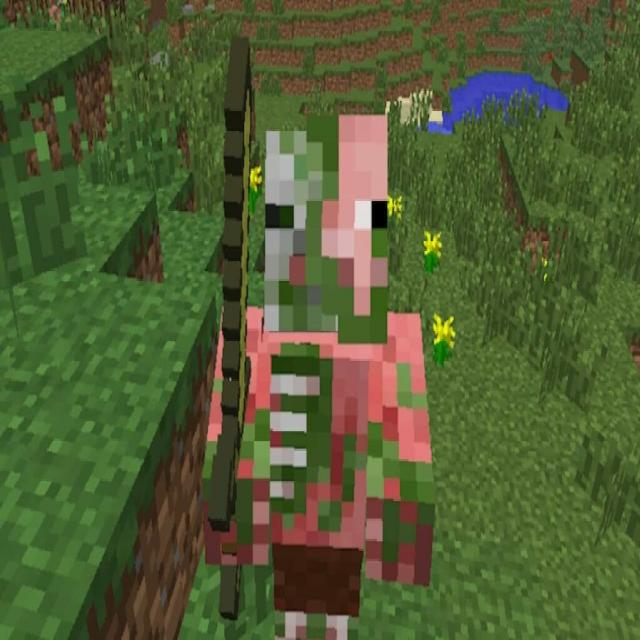Zombified Piglin: (205, 37, 434, 637)
